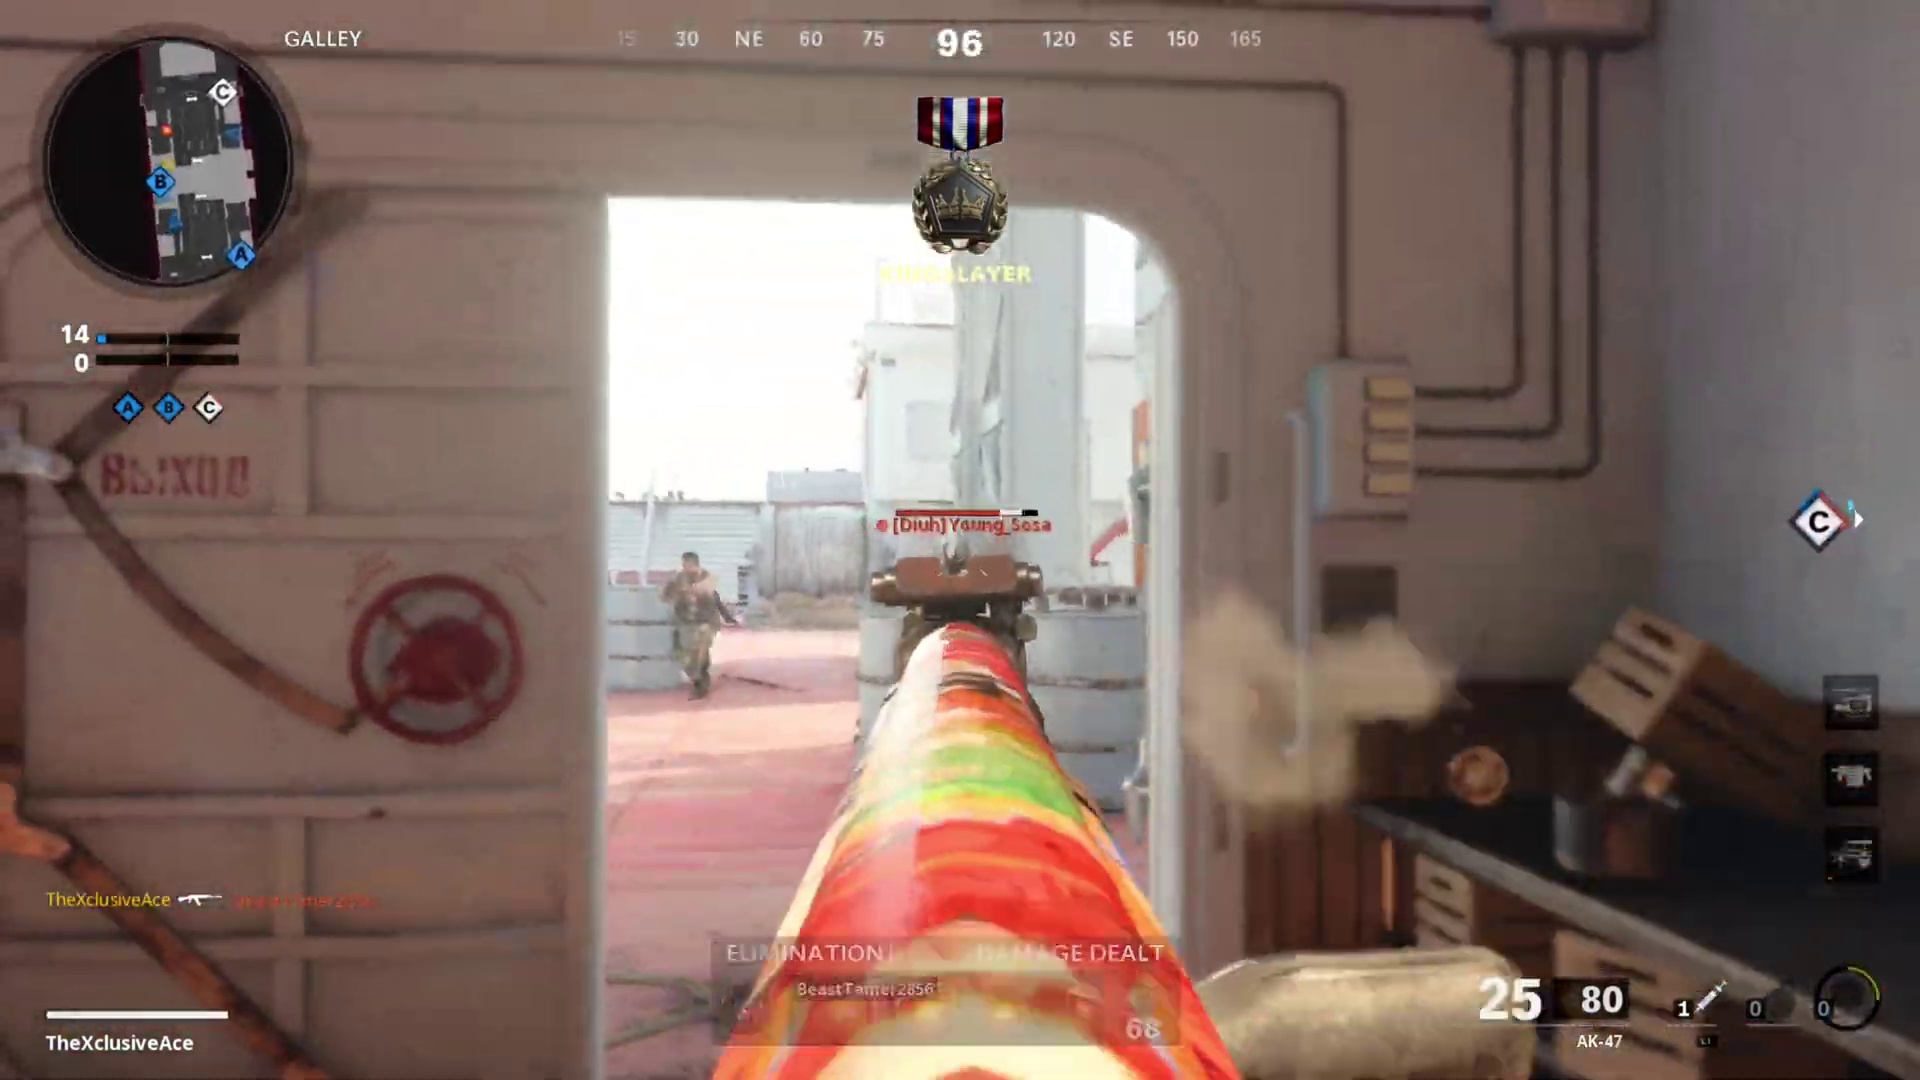head: (675, 545, 700, 580)
person: (656, 550, 738, 688)
